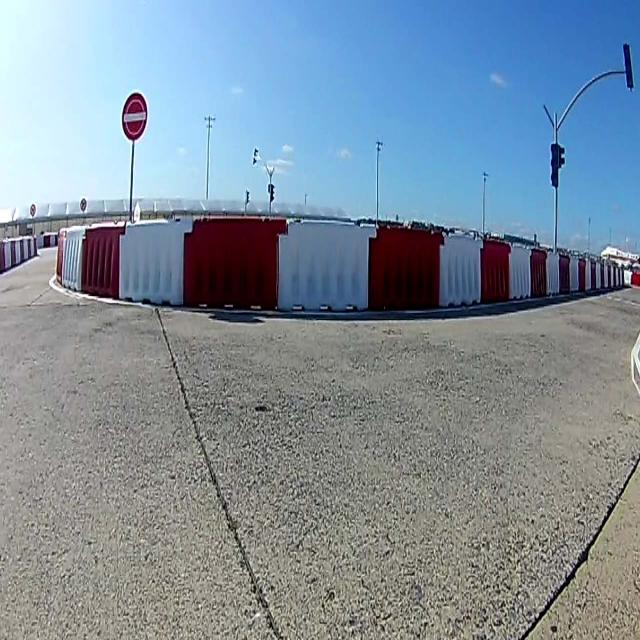girisyok: (120, 92, 148, 140)
